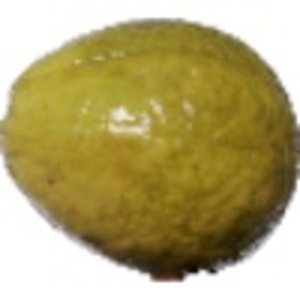goiaba: (4, 18, 291, 282)
